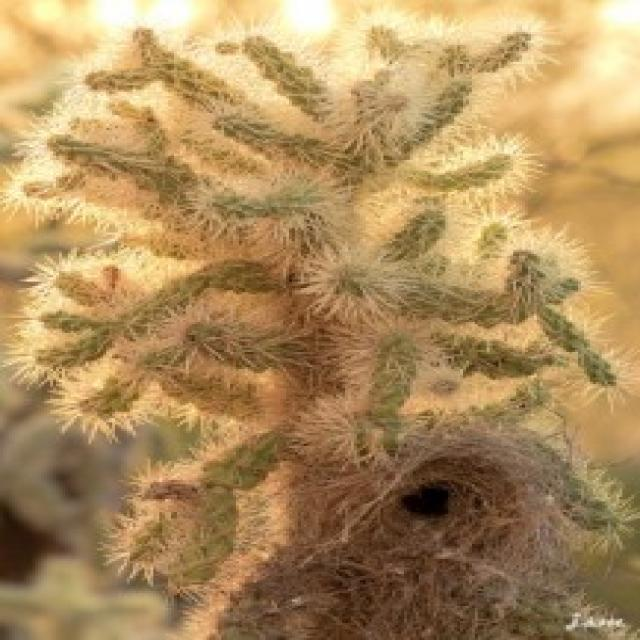Healthy: (1, 12, 635, 639)
